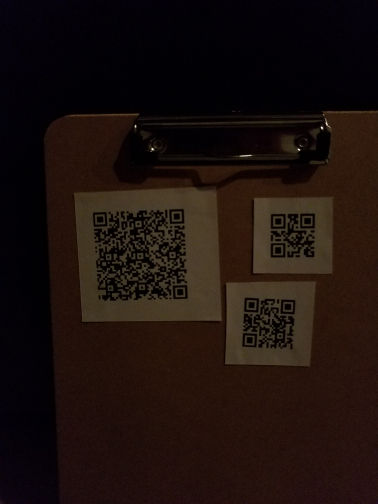QR_CODE: (84, 201, 198, 307), (234, 285, 305, 359), (262, 202, 325, 265)
